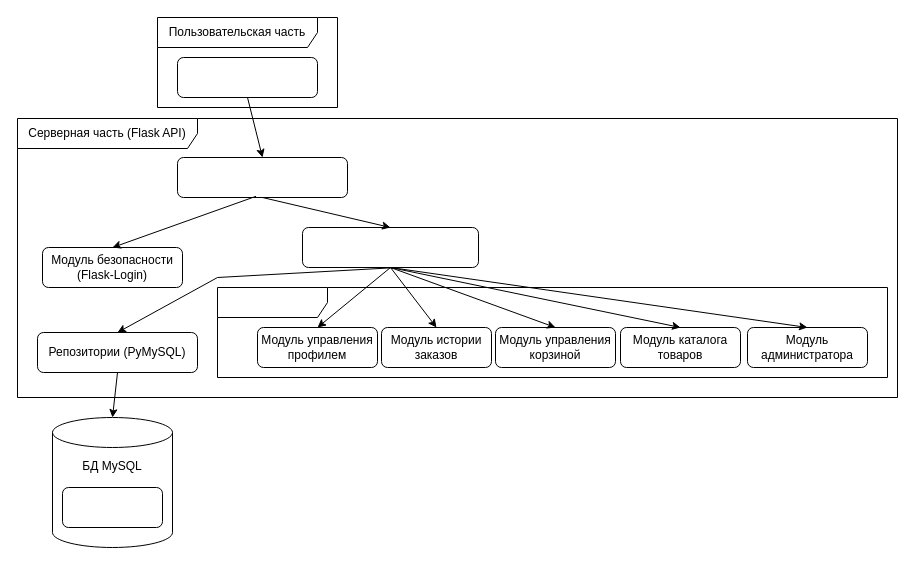
Image size: 915x565. Some labels were removed from this diagram. The shapes that lost their labels are listed below. From the top down, each one's box as (x1, y1, x2, y2) in pixels, then its label:
(176, 56, 318, 98): Веб-приложение
(176, 156, 348, 198): Контроллеры (@app.route)
(302, 226, 478, 268): Бизнес логика (Service Layer)
(216, 286, 888, 378): Функциональные модули
(62, 486, 162, 528): Данные
